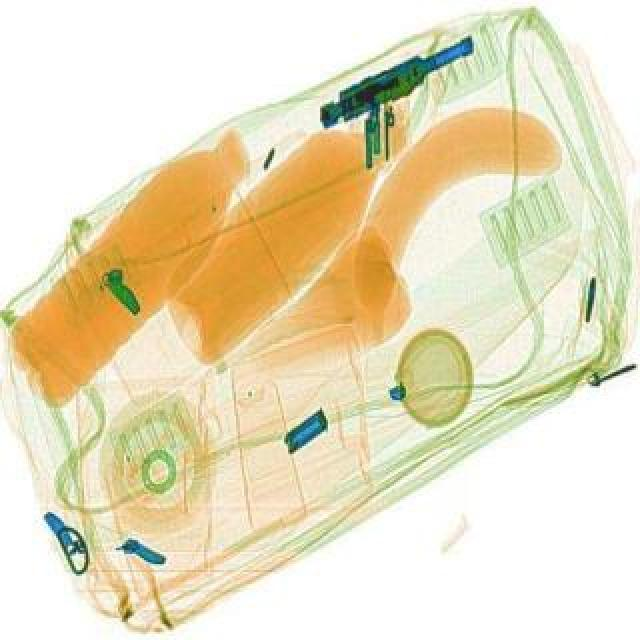gun: (308, 26, 482, 130)
